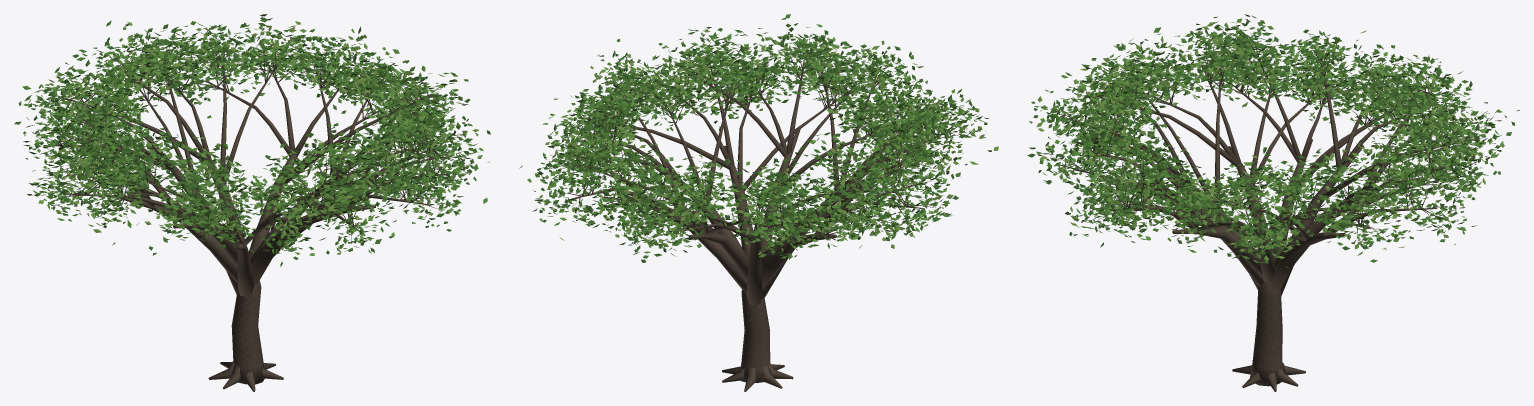
Rendered from rain_tree.glb.
The picture shows the model from 3 angles, left to right: view 1: azimuth 30°, elevation 25°; view 2: azimuth 150°, elevation 25°; view 3: azimuth 270°, elevation 25°; orthographic projection. The views are drawn at different scales.
Parts seen in each view (by area): view 1: RainTree_ModeledLeaves, RainTree_BranchNetwork; view 2: RainTree_ModeledLeaves, RainTree_BranchNetwork; view 3: RainTree_ModeledLeaves, RainTree_BranchNetwork.
Part boxes in pixels (x1=…): RainTree_ModeledLeaves: x1=14, y1=14, x2=490, y2=266; RainTree_BranchNetwork: x1=44, y1=37, x2=465, y2=391; RainTree_ModeledLeaves: x1=519, y1=14, x2=998, y2=262; RainTree_BranchNetwork: x1=558, y1=40, x2=966, y2=391; RainTree_ModeledLeaves: x1=1027, y1=14, x2=1519, y2=269; RainTree_BranchNetwork: x1=1053, y1=32, x2=1489, y2=391.
Bounding box in the file's own units: 20.78 × 14.38 × 21.5.
7 materials, 1 textured.
